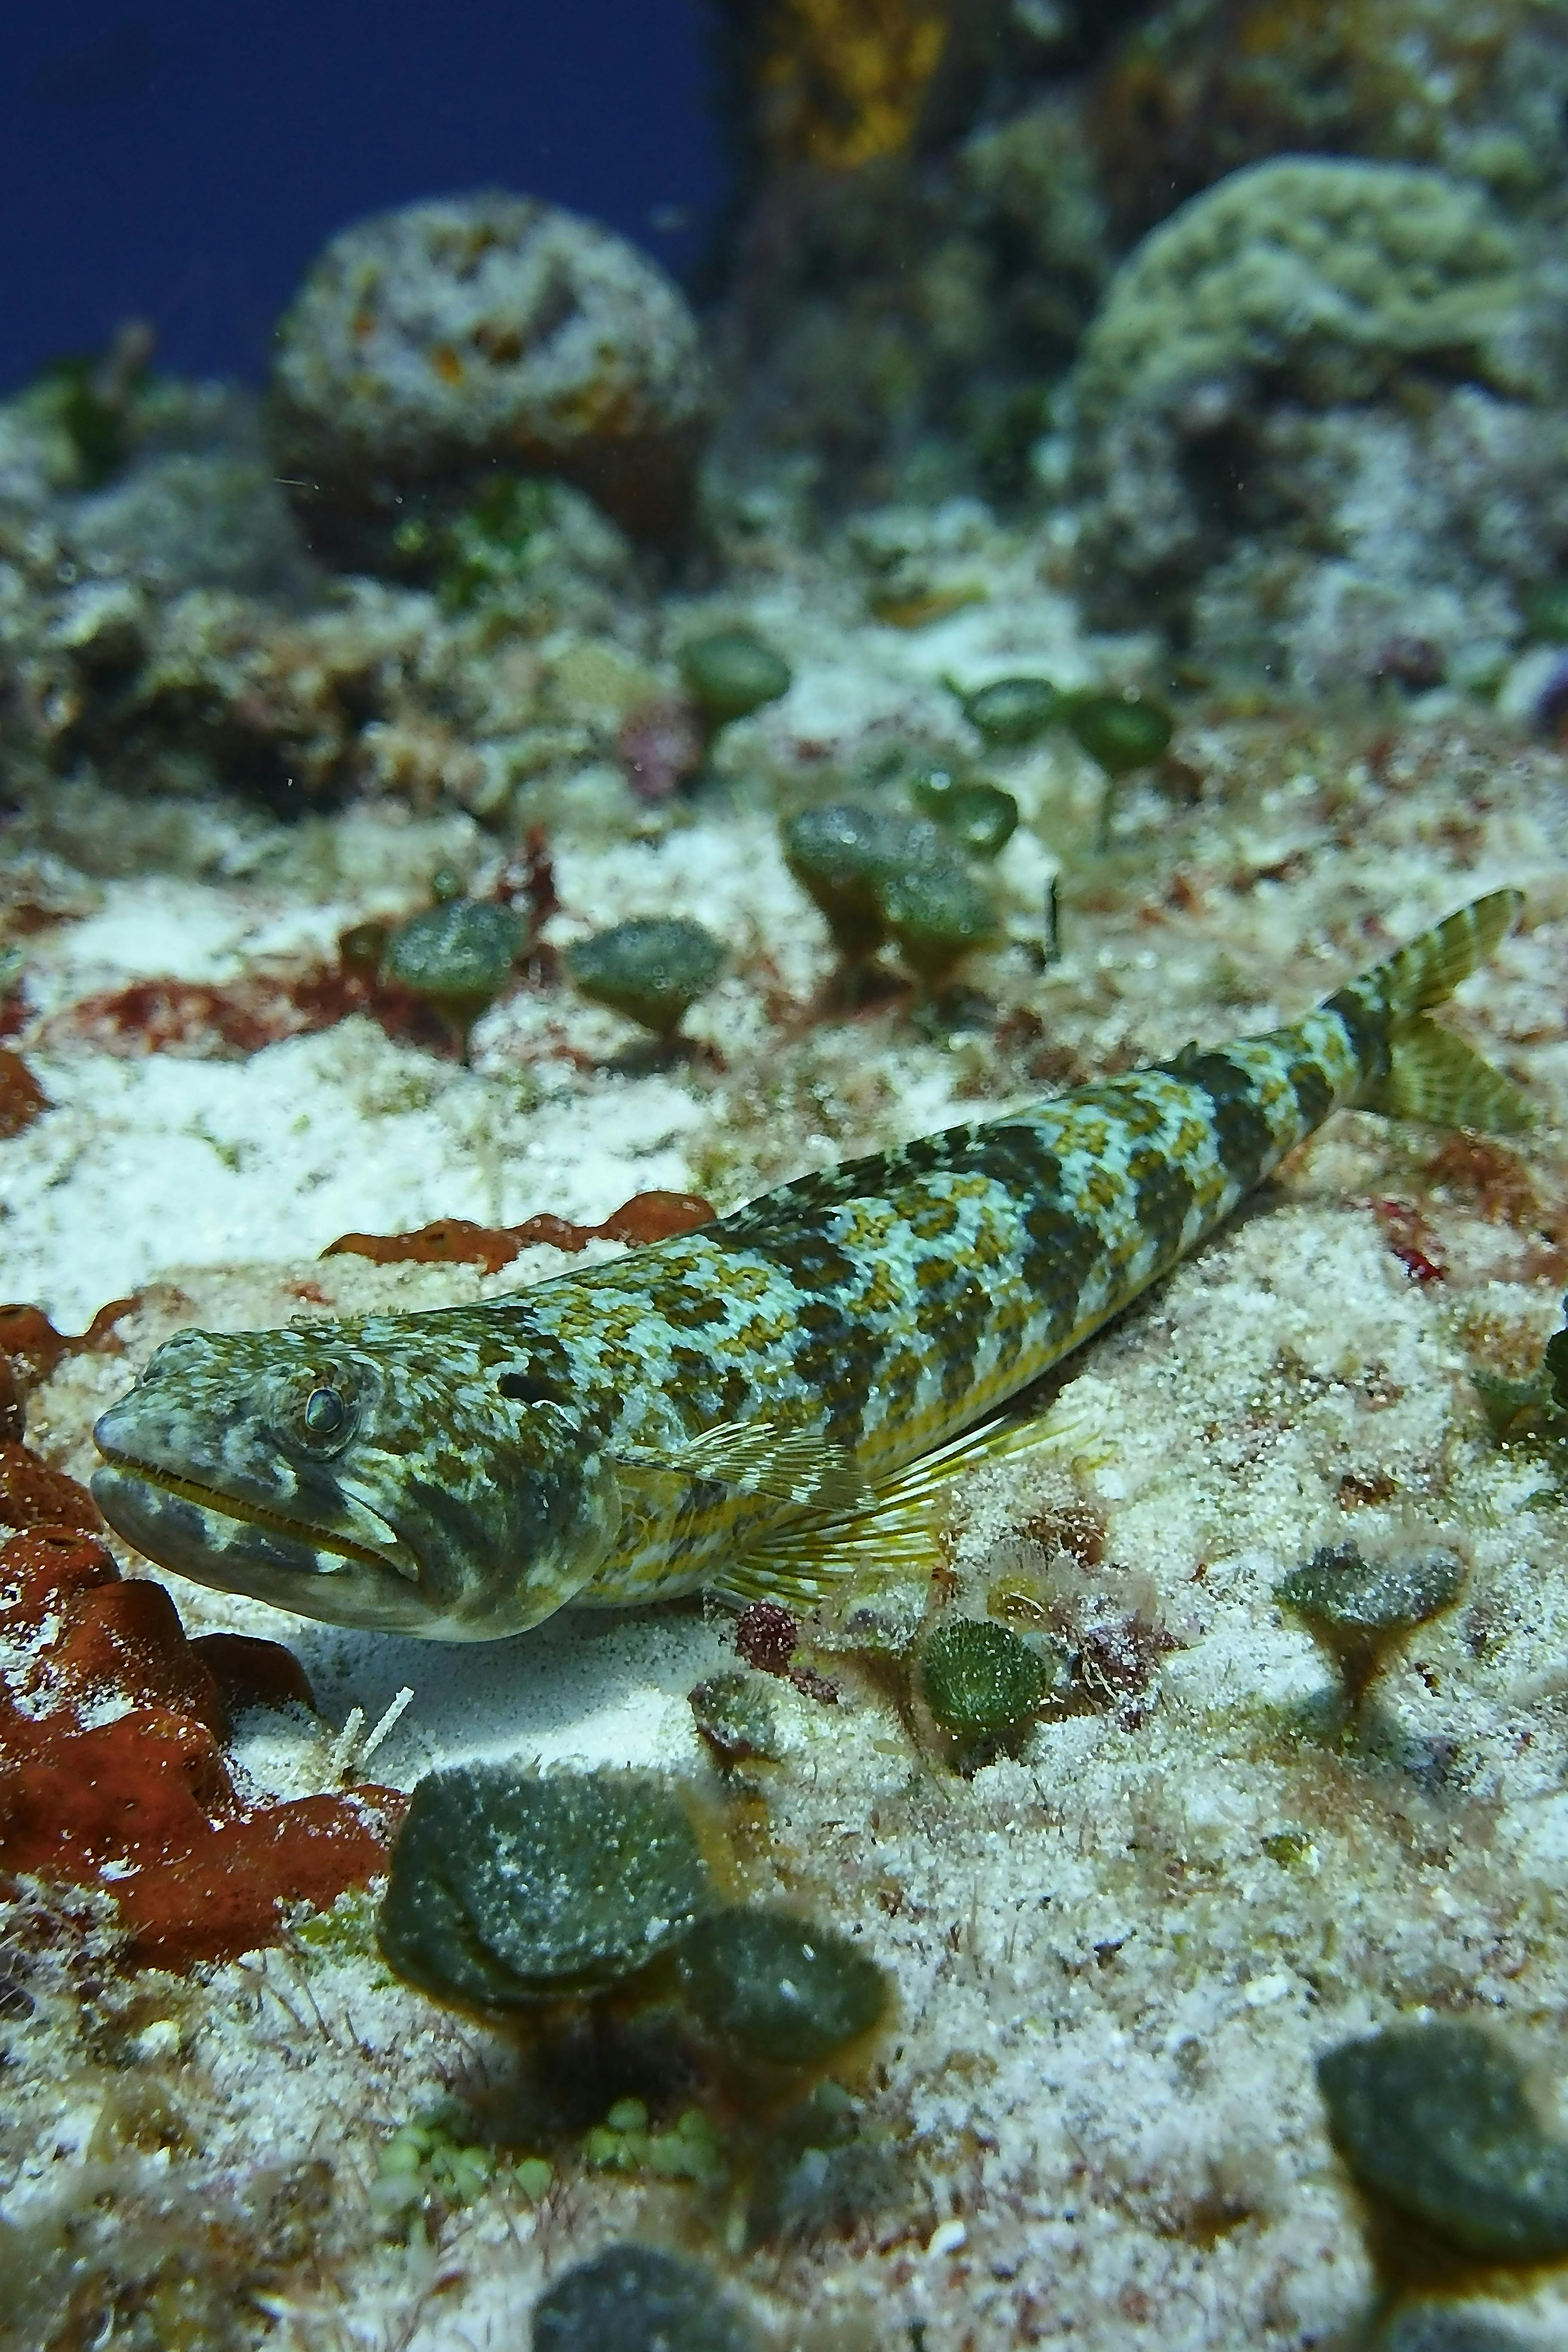fishSmall: (87, 885, 1547, 1650)
